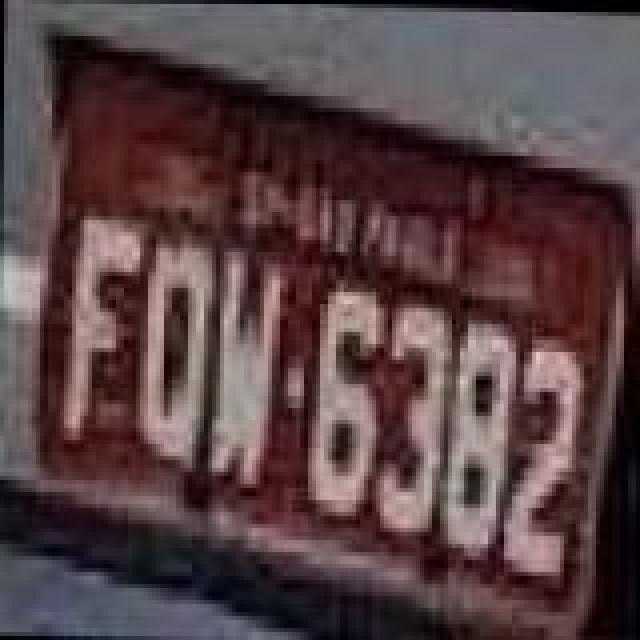2: (506, 340, 594, 576)
3: (374, 300, 454, 536)
6: (298, 286, 386, 522)
8: (442, 316, 522, 564)
F: (60, 216, 148, 452)
Q: (132, 234, 220, 470)
W: (210, 244, 286, 492)
